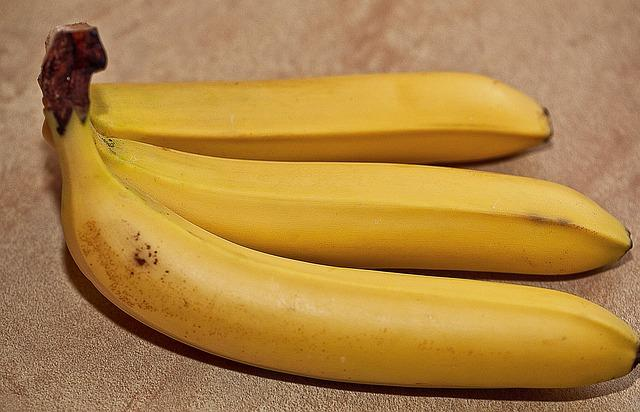banana: (38, 22, 640, 390)
